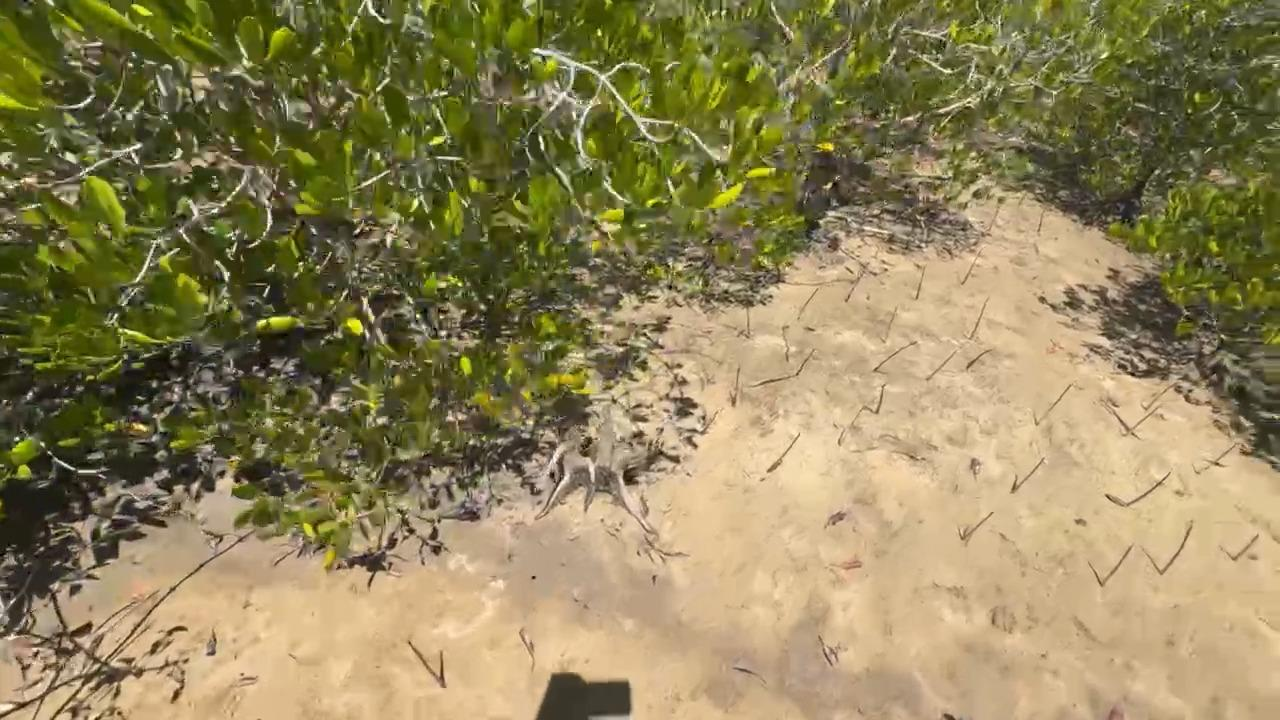Tree: (408, 640, 446, 688), (1160, 524, 1193, 575), (1126, 472, 1171, 506), (1036, 384, 1072, 426), (767, 432, 800, 473), (1102, 544, 1133, 587), (873, 341, 917, 371), (1011, 457, 1045, 494), (968, 296, 990, 340), (925, 350, 957, 380), (961, 512, 994, 540), (1129, 405, 1161, 433), (1145, 382, 1177, 410), (961, 249, 982, 285), (518, 629, 535, 672), (1233, 533, 1259, 561), (987, 195, 1007, 231), (845, 268, 865, 303), (797, 288, 818, 320), (966, 348, 994, 370), (732, 666, 766, 683), (883, 307, 898, 343), (796, 349, 815, 376), (817, 634, 833, 666), (1214, 443, 1236, 462), (915, 265, 926, 300), (781, 325, 790, 363), (875, 384, 886, 414), (1037, 211, 1044, 233), (746, 307, 751, 335), (1017, 193, 1027, 206), (735, 367, 740, 390)
